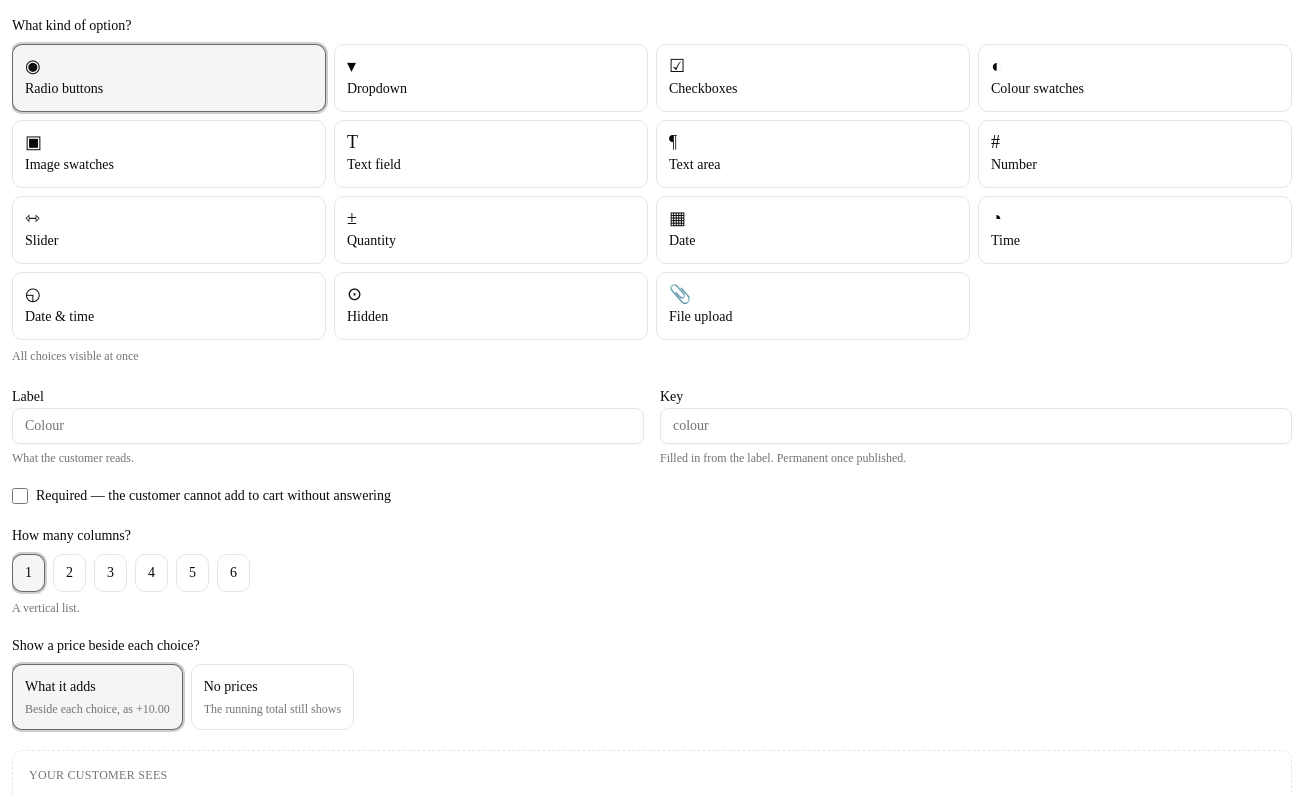
Scenario: AddOption — contradictory selection bounds › refuses to add when the minimum exceeds the maximum
The width and height of the screenshot is (1304, 795).
Click the button "☑ Checkboxes" at (703, 88), box [656,44,970,112]
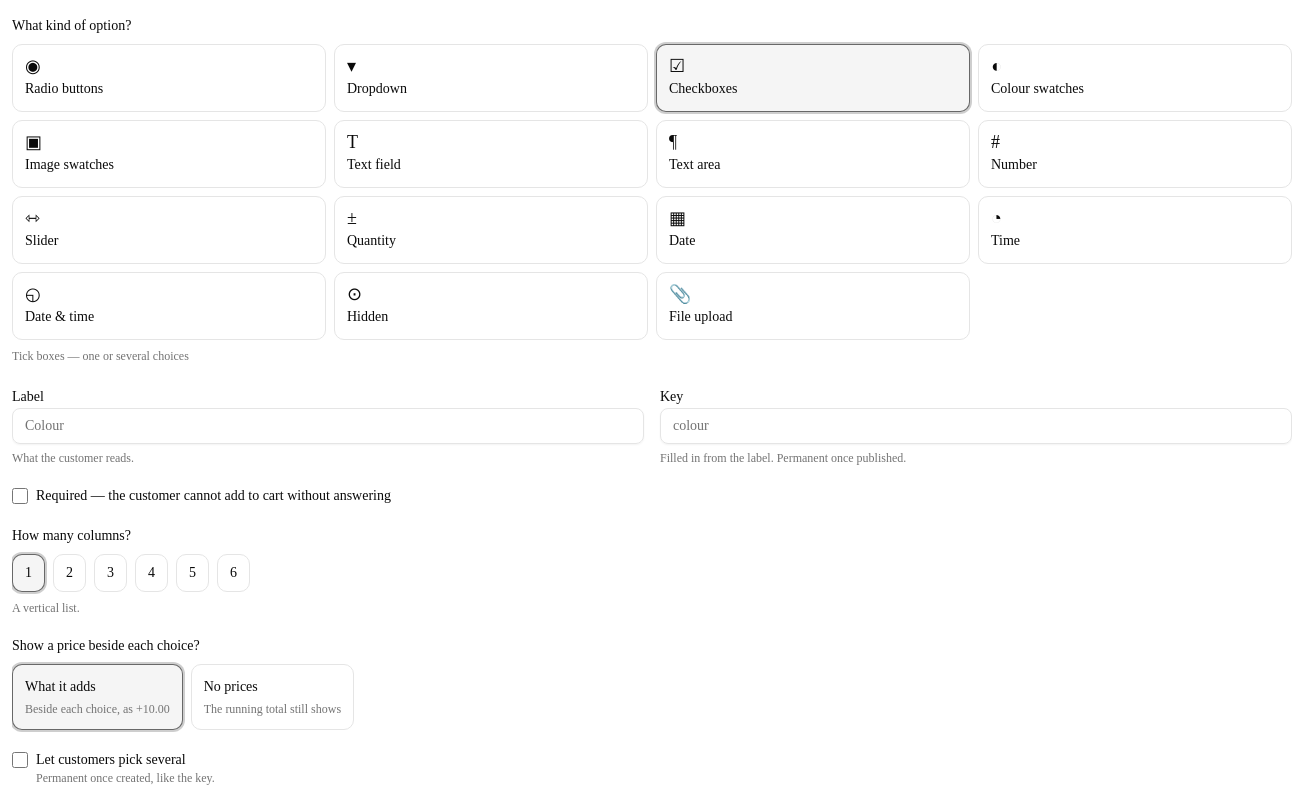
Click the 2nd checkbox at (20, 760), box [12,752,28,768]
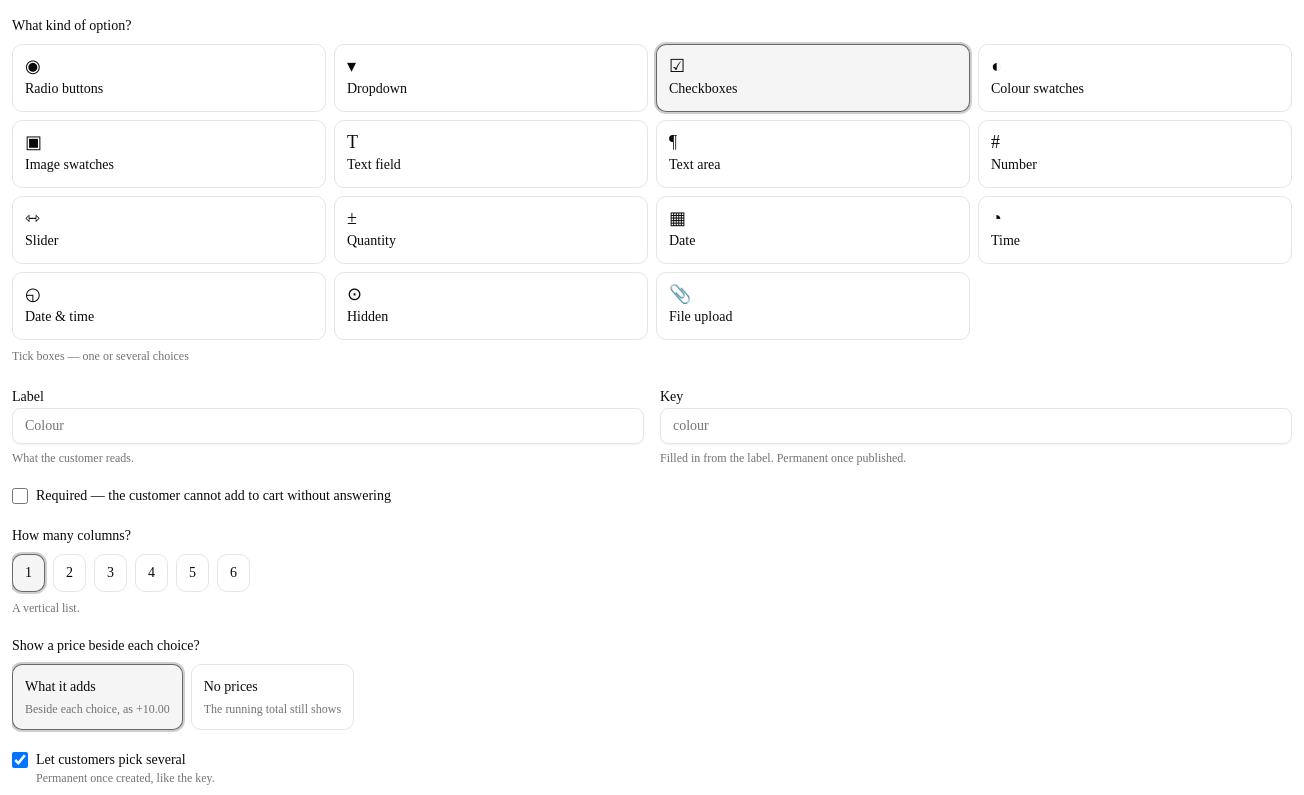
Type "Toppings" into the field labelled "Label" at (328, 426), box [12,408,644,444]
(page scrolled)
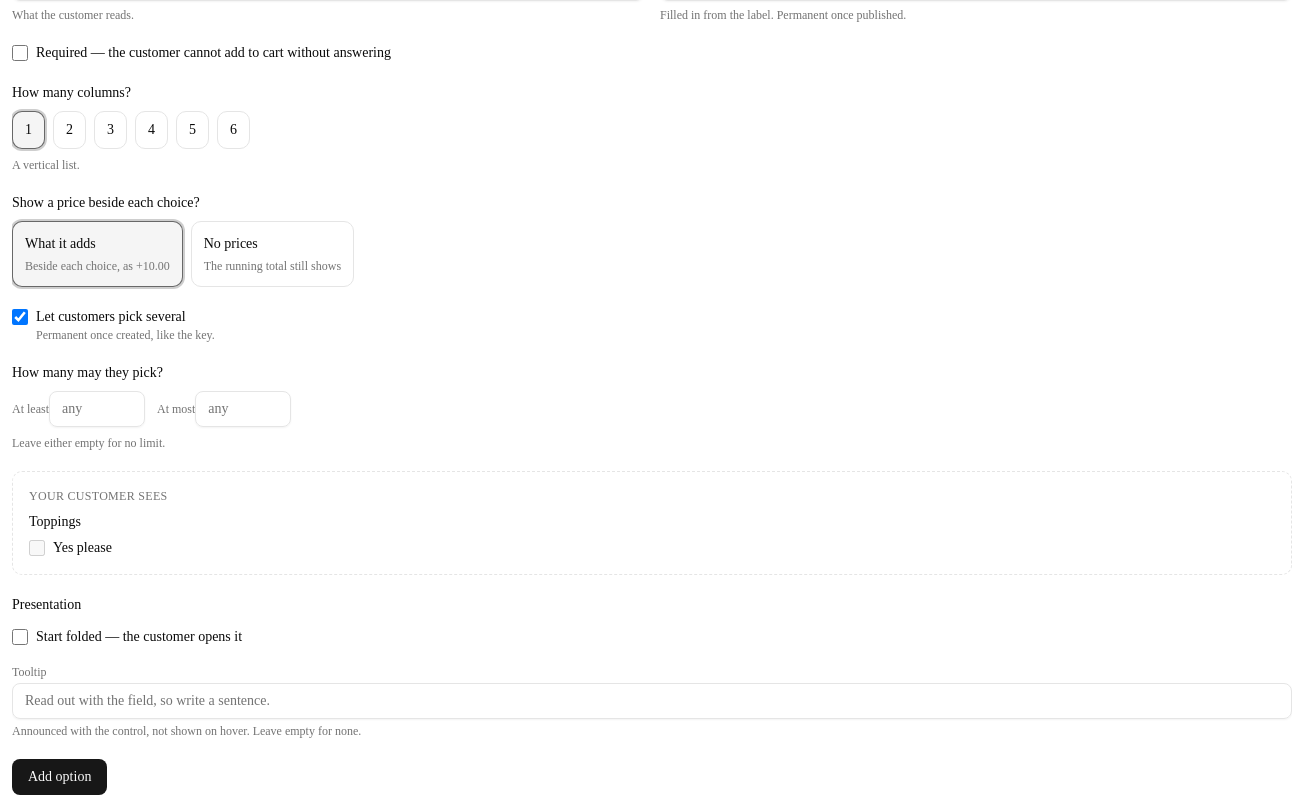
Type "5" into the number field labelled "At least" at (97, 409), box [49,391,145,427]
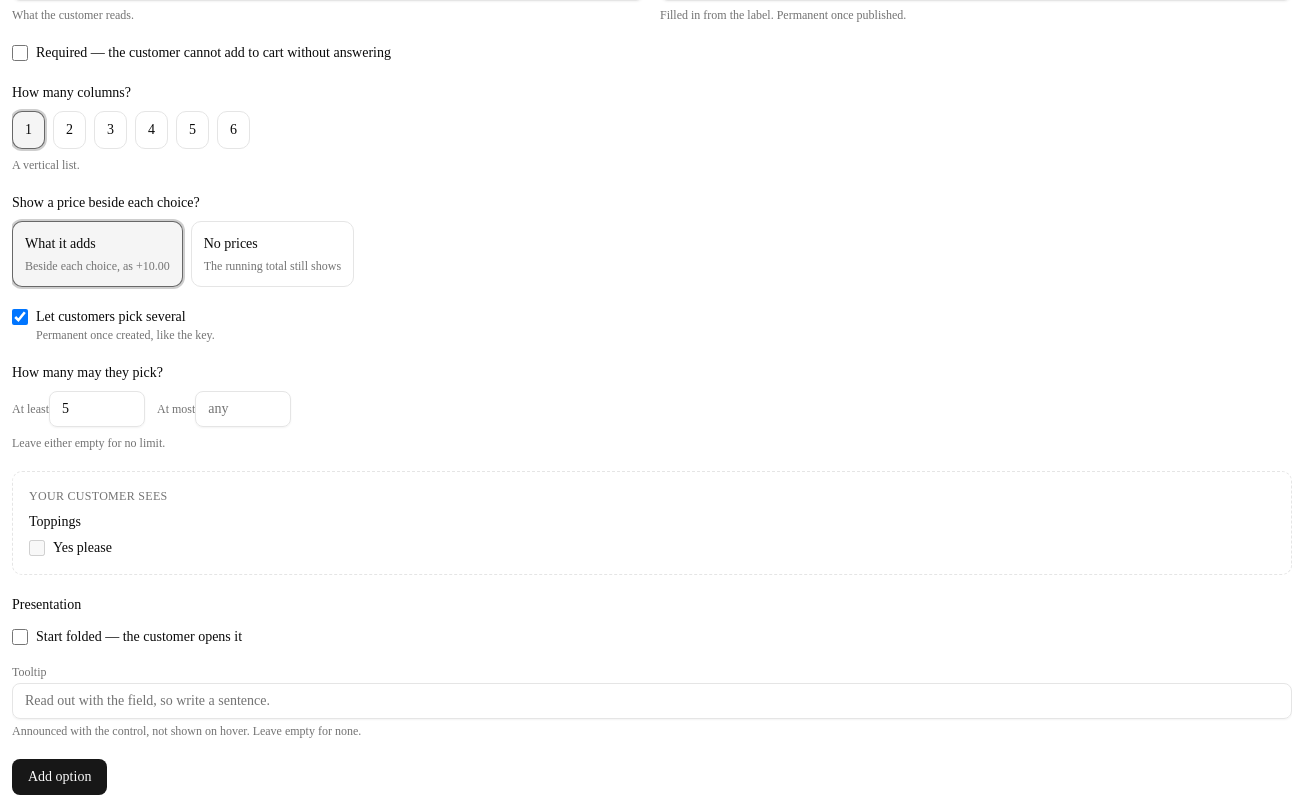
Type "2" into the number field labelled "At most" at (243, 409), box [195,391,291,427]
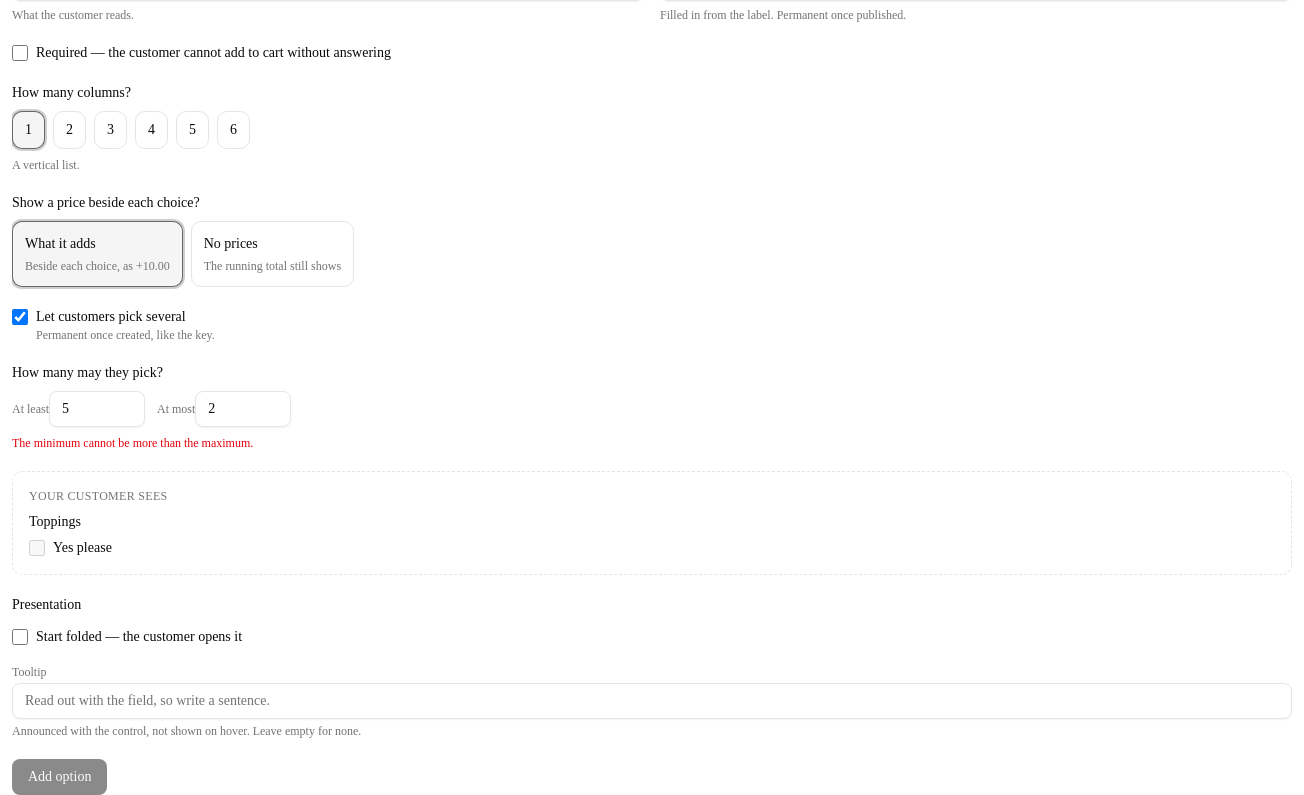
Expected: the button "Add option" is disabled, [12,759,107,794]
